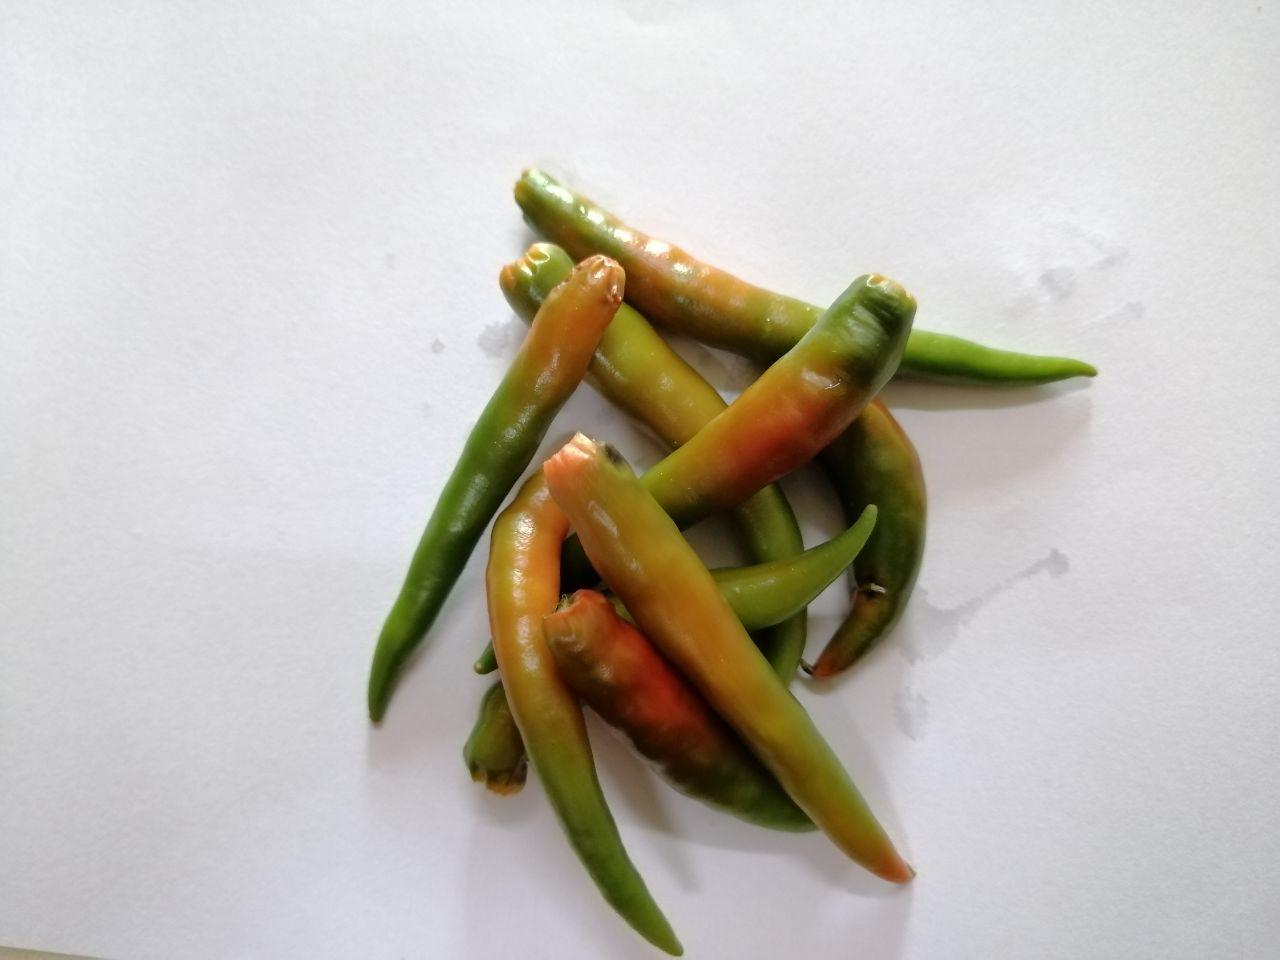lada hijau: (469, 152, 1121, 417), (344, 247, 655, 725)
lada kuning: (553, 433, 922, 894), (471, 465, 693, 955)
